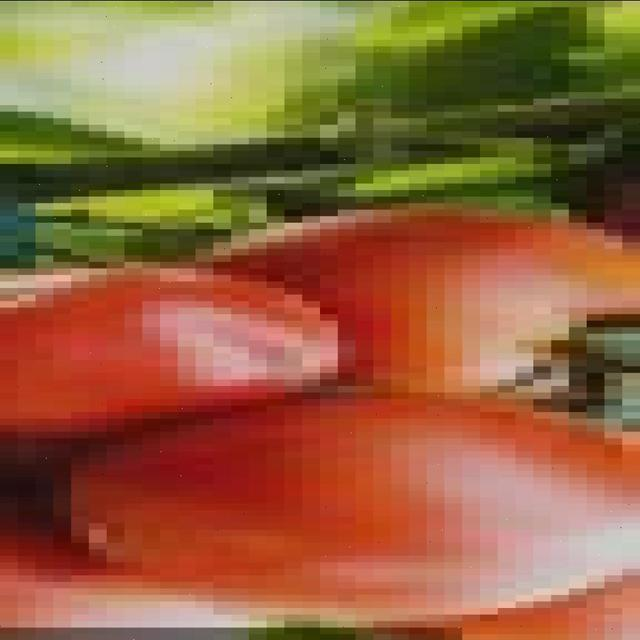Healthy Fruit: (214, 128, 362, 343)
